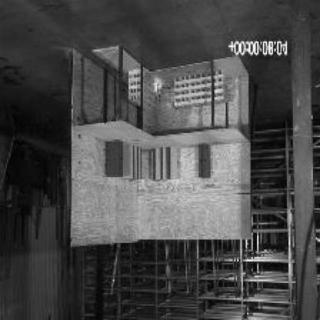Fire: (148, 74, 164, 102)
